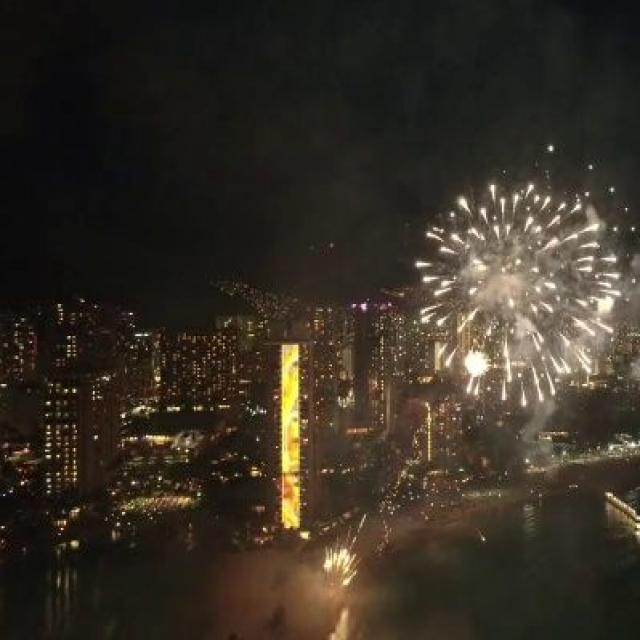Smoke: (504, 30, 637, 172), (216, 594, 378, 640), (518, 398, 575, 476)
